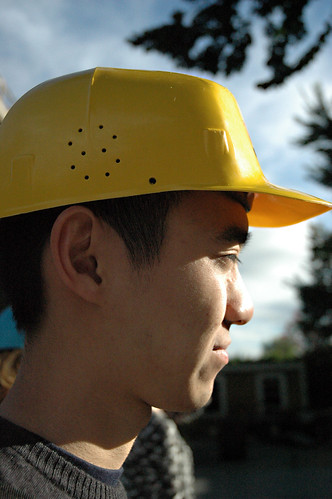person hardhat: (1, 65, 331, 499)
